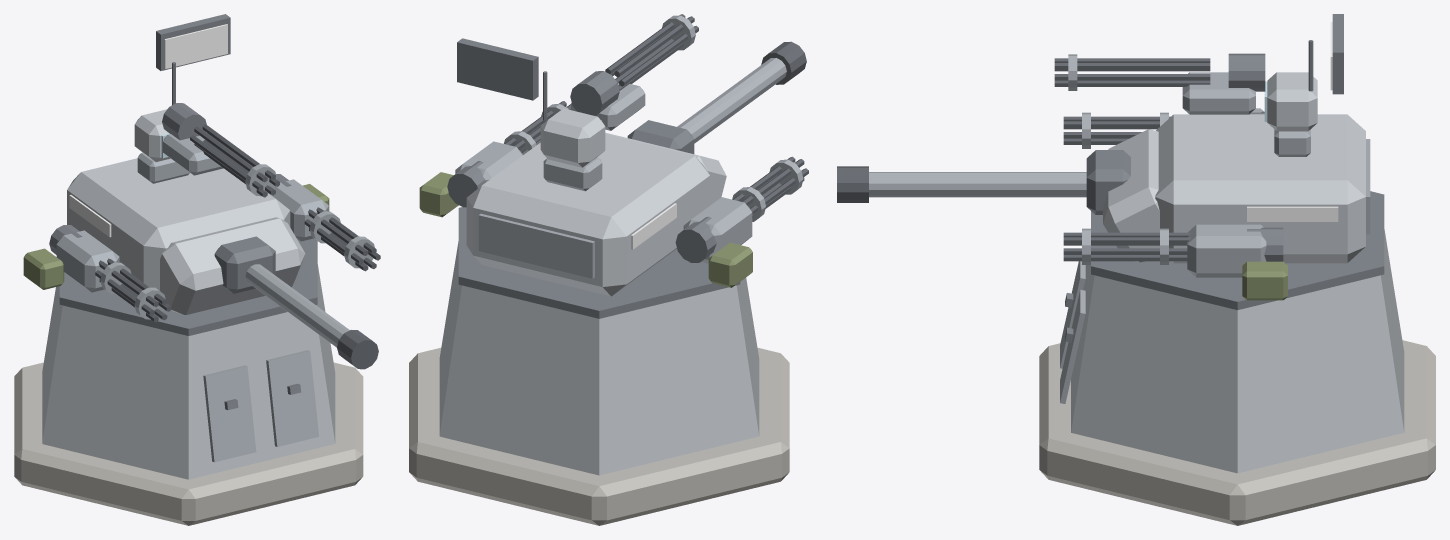
Rendered from turret_4.glb.
3 views of the same model, side by side, from view 1: azimuth 30°, elevation 25°; view 2: azimuth 150°, elevation 25°; view 3: azimuth 270°, elevation 25° (orthographic). The views are drawn at different scales.
Parts seen in each view (by area): view 1: main, turret, rotor; view 2: main, turret, rotor; view 3: main, turret, rotor.
Part boxes in pixels (x1,y1,x2,y2): main: [14, 238, 363, 525]; turret: [23, 62, 380, 369]; rotor: [156, 14, 230, 70]; main: [409, 207, 789, 525]; turret: [419, 14, 808, 296]; rotor: [457, 38, 538, 100]; main: [1039, 191, 1435, 525]; turret: [837, 40, 1370, 300]; rotor: [1330, 14, 1343, 94].
Size of the model in its own units: 0.98 by 1.03 by 1.31.
